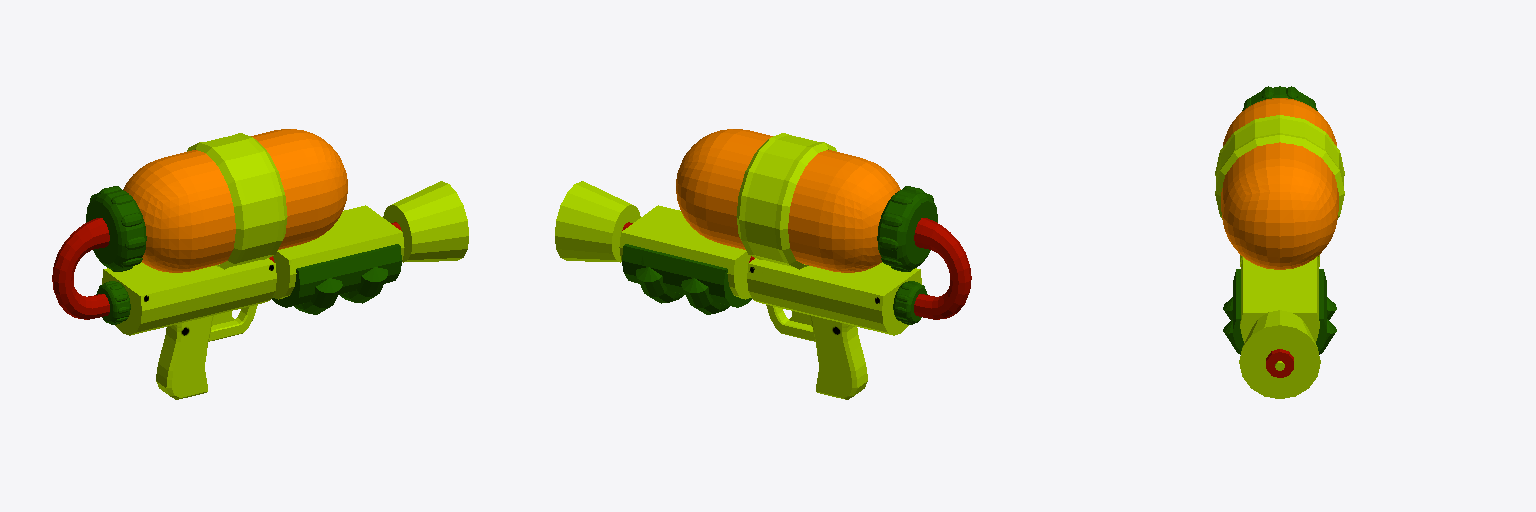
3 views of the same model, side by side, from view 1: azimuth 30°, elevation 25°; view 2: azimuth 150°, elevation 25°; view 3: azimuth 270°, elevation 25° (orthographic).
Parts seen in each view (by area): view 1: pCube6, pasted__pCylinder1 group, pPipe1, pCylinder5, pCube3, group pasted__pCylinder2, pCylinder2, group pasted__pCylinder3, pPipe2, pCylinder3, pCylinder4, pPipe4 group1; view 2: pCube6, pasted__pCylinder1 group, pPipe1, pCylinder5, pCube3, group pasted__pCylinder2, pCylinder2, group pasted__pCylinder3, pPipe2, pCylinder3, pCylinder4, pPipe4 group1; view 3: pCube6, pCylinder5, group pasted__pCylinder2, pPipe1, group pasted__pCylinder3, pCylinder2.
Boxes of the visible parts, <box> form: pCube6: <box>123,129,347,272</box>; pasted__pCylinder1 group: <box>102,258,276,335</box>; pPipe1: <box>187,133,287,269</box>; pCylinder5: <box>383,181,468,262</box>; pCube3: <box>156,305,257,399</box>; group pasted__pCylinder2: <box>272,205,404,299</box>; pCylinder2: <box>52,218,401,319</box>; group pasted__pCylinder3: <box>272,244,401,307</box>; pPipe2: <box>86,189,146,270</box>; pCylinder3: <box>294,278,342,314</box>; pCylinder4: <box>340,267,387,303</box>; pPipe4 group1: <box>96,282,130,323</box>; pCube6: <box>676,129,900,272</box>; pasted__pCylinder1 group: <box>747,258,921,335</box>; pPipe1: <box>736,133,836,269</box>; pCylinder5: <box>555,181,640,262</box>; pCube3: <box>766,305,867,399</box>; group pasted__pCylinder2: <box>619,205,751,299</box>; pCylinder2: <box>622,218,971,319</box>; group pasted__pCylinder3: <box>622,244,751,307</box>; pPipe2: <box>877,189,937,270</box>; pCylinder3: <box>681,278,729,314</box>; pCylinder4: <box>636,267,683,303</box>; pPipe4 group1: <box>893,282,927,323</box>; pCube6: <box>1221,98,1338,269</box>; pCylinder5: <box>1239,310,1320,398</box>; group pasted__pCylinder2: <box>1240,257,1319,342</box>; pPipe1: <box>1215,115,1344,219</box>; group pasted__pCylinder3: <box>1233,269,1326,351</box>; pCylinder2: <box>1266,349,1293,377</box>.
Bounding box in the file's own units: 7.87 × 4.45 × 2.19.
Materials: 2 (1 with a texture image).